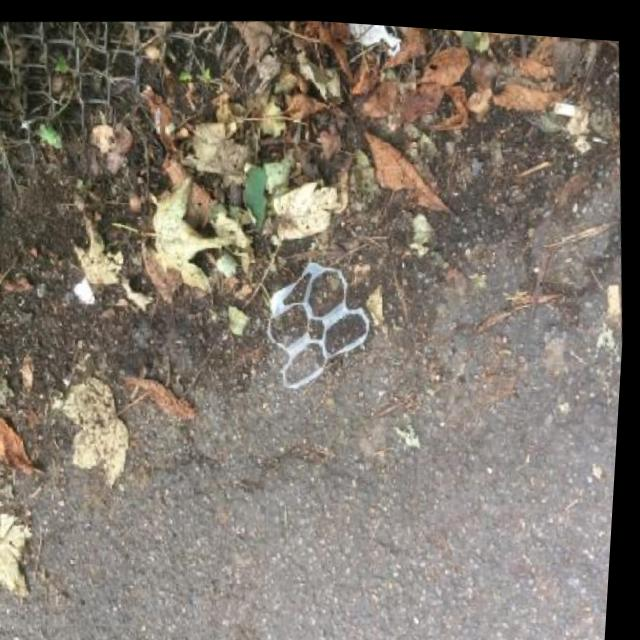plastic: (258, 254, 379, 397)
